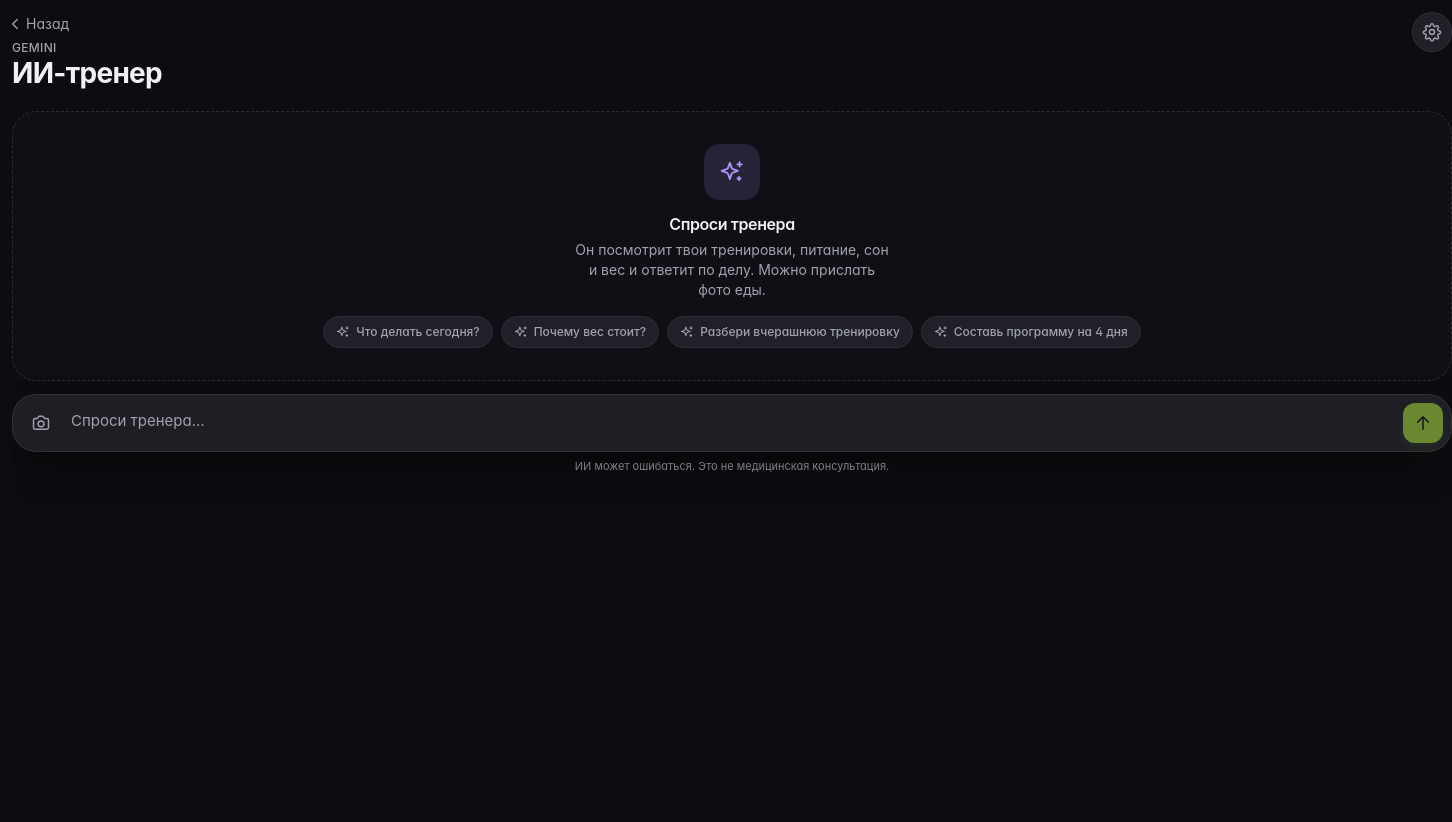
Test case: CoachChat › shows provider errors with a retry button
The image size is (1452, 822).
Step 1. Type "Привет" into the text box named "Сообщение тренеру" → [732, 423], box 67,403 -> 1397,443
Then press Enter
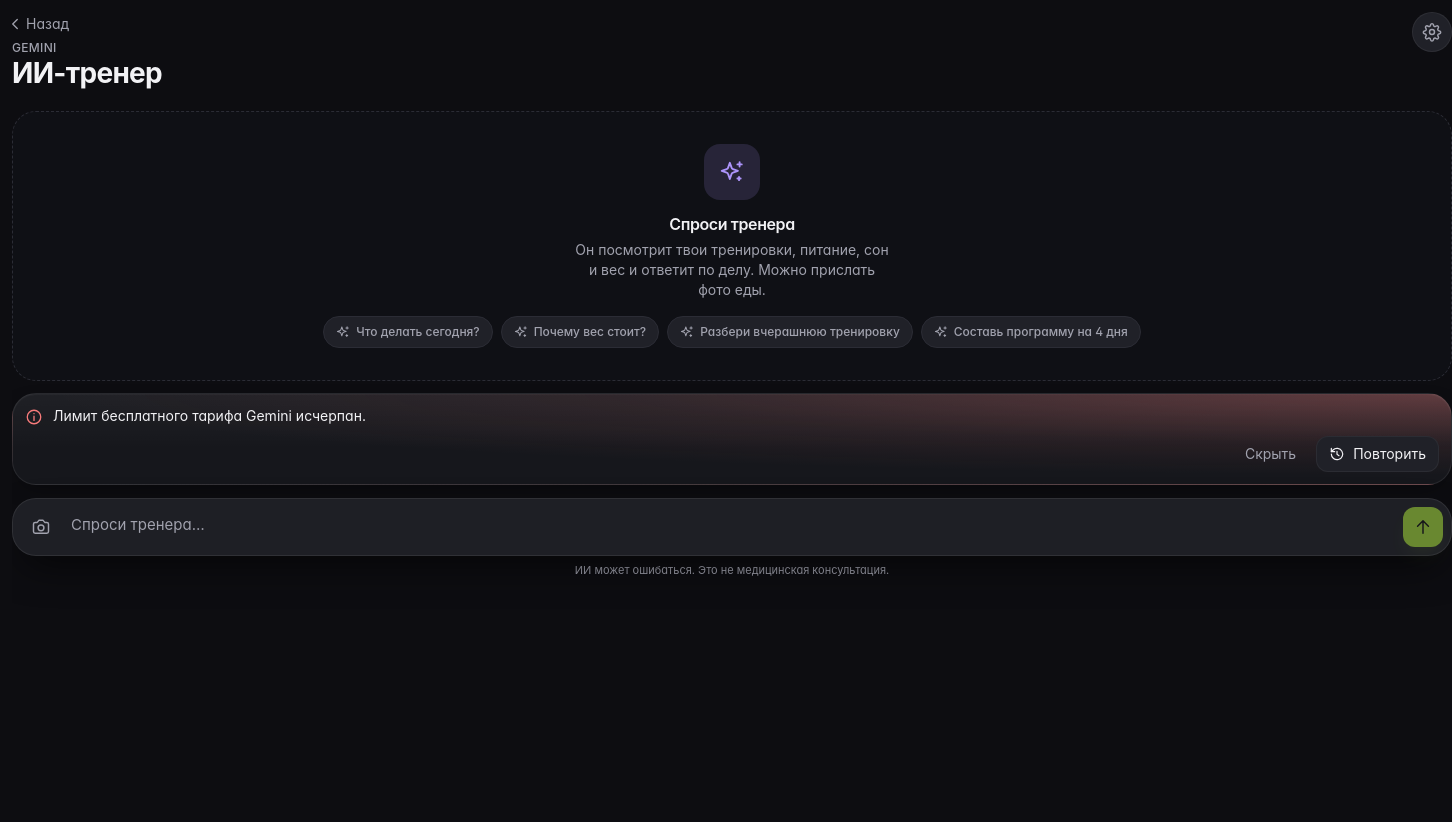
Now the message shows "Лимит бесплатного тарифа", box 53,407 -> 366,424
Now the button "Повторить" is shown, box 1316,436 -> 1439,472
